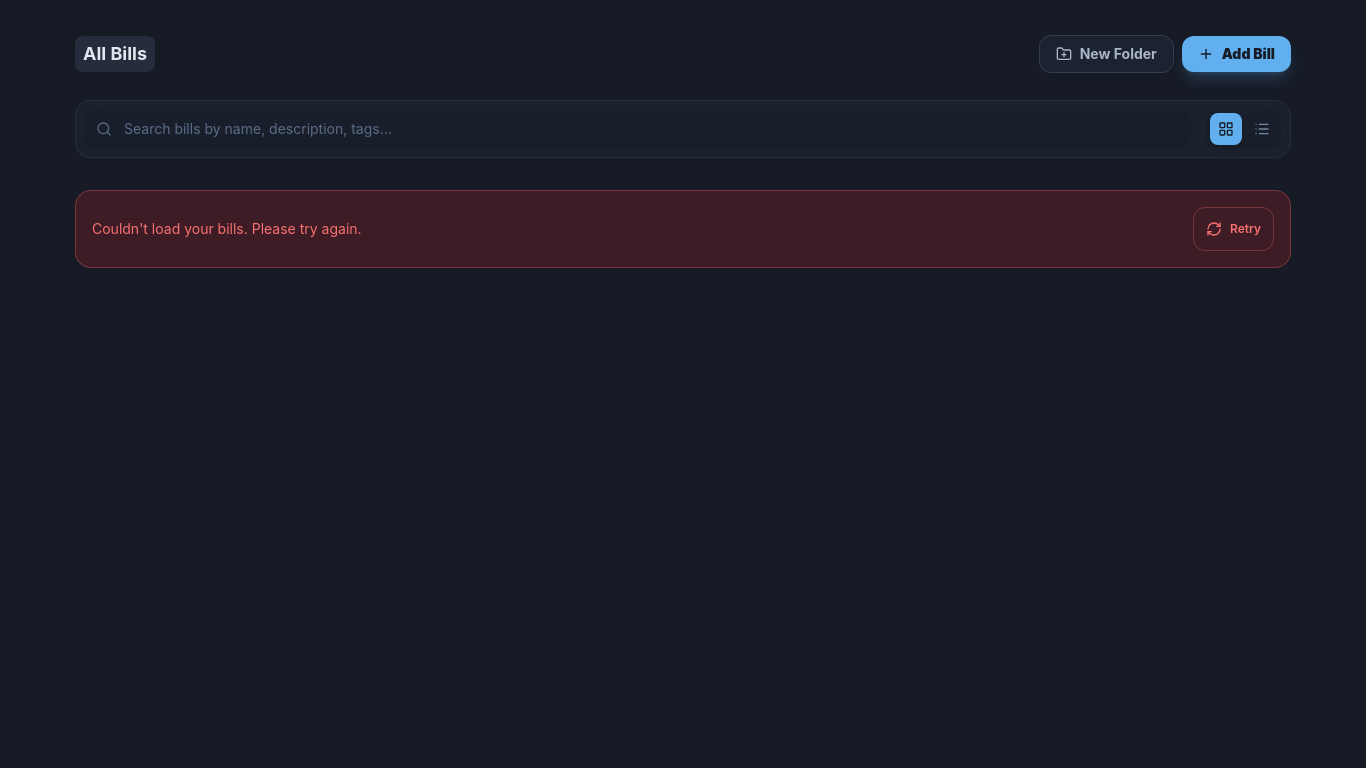
Test: BillsAdminView › shows a retryable error when folders fail to load and recovers on retry
The width and height of the screenshot is (1366, 768).
Check: the message "Couldn't load your bills. Please try again. Retry" is shown, box top-left (75, 190), bottom-right (1291, 268)
Click the button "New Folder" at [1106, 54], box top-left (1039, 35), bottom-right (1174, 73)
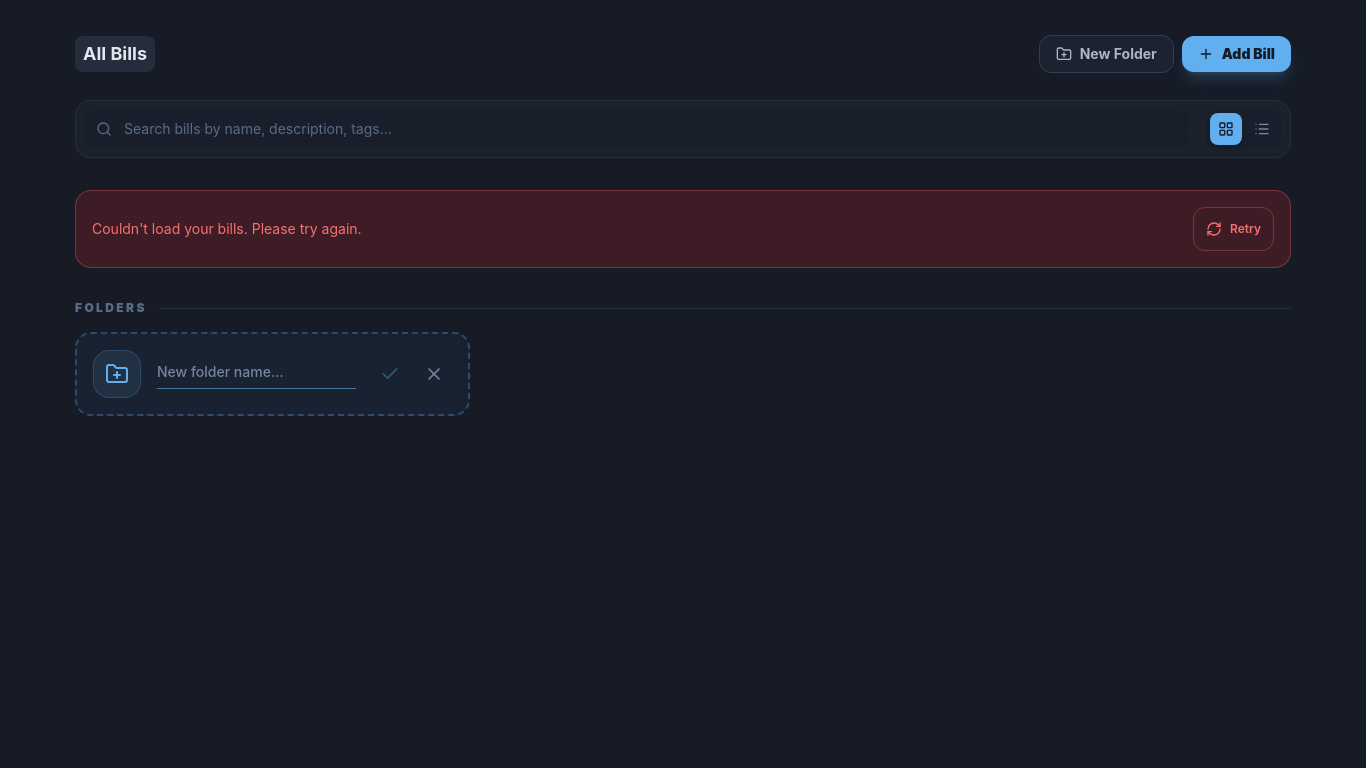
Check: the field with placeholder "New folder name…" is shown, box top-left (157, 362), bottom-right (356, 389)
Click the button with aria-label "retry loading bills" at [1234, 229], box top-left (1193, 207), bottom-right (1274, 251)
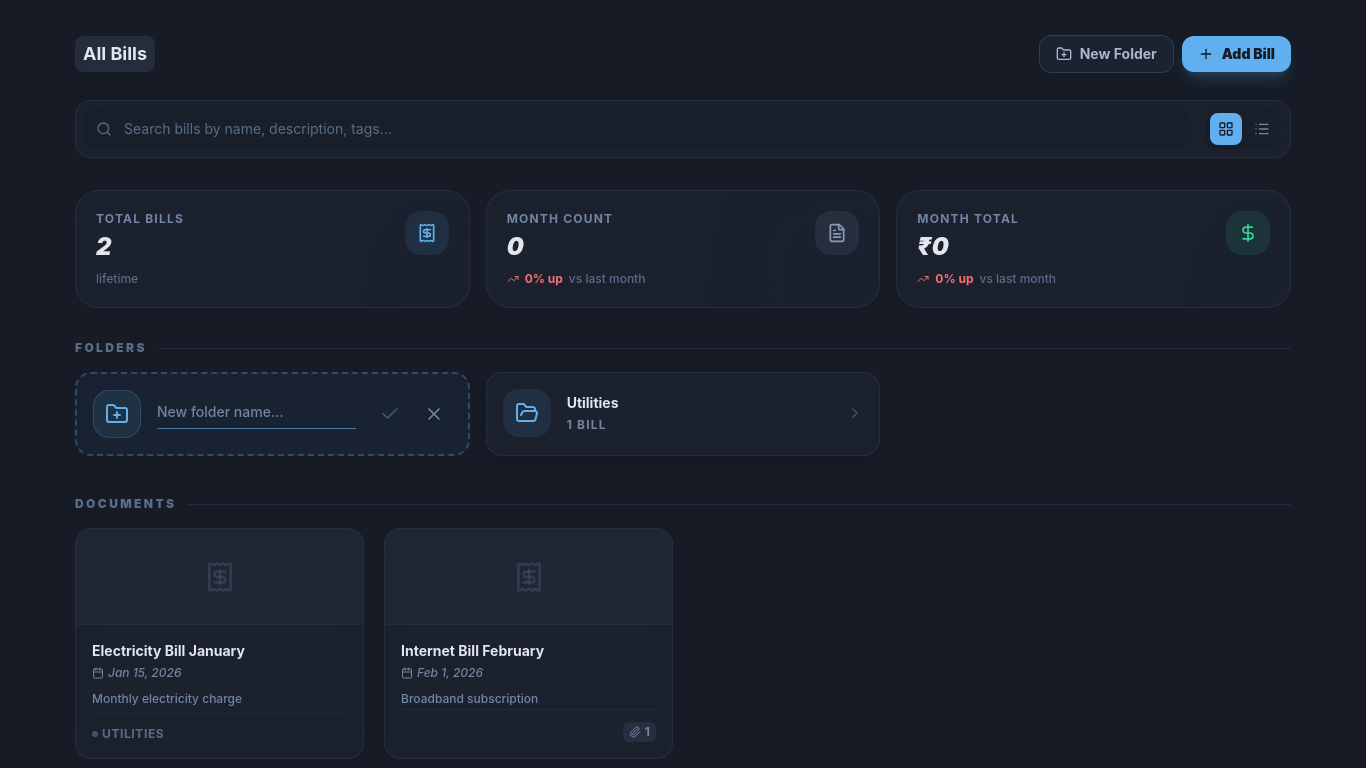
Check: the heading "Electricity Bill January" is shown, box top-left (92, 642), bottom-right (245, 659)
